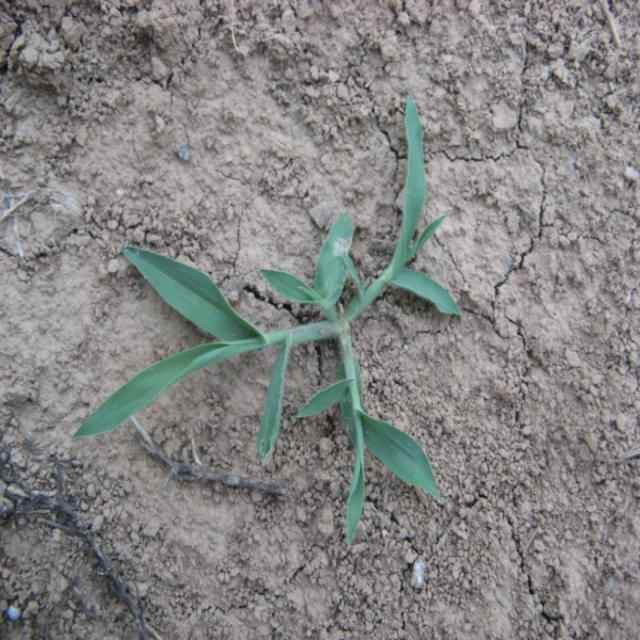bg: (71, 99, 465, 542)
